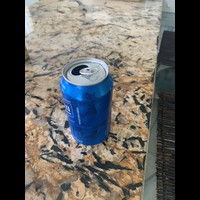tonica: (57, 53, 119, 150)
